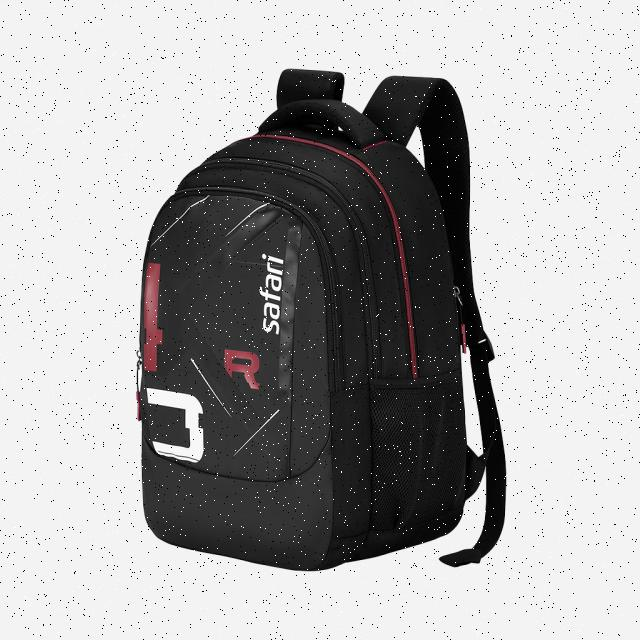backpack: (135, 68, 507, 572)
